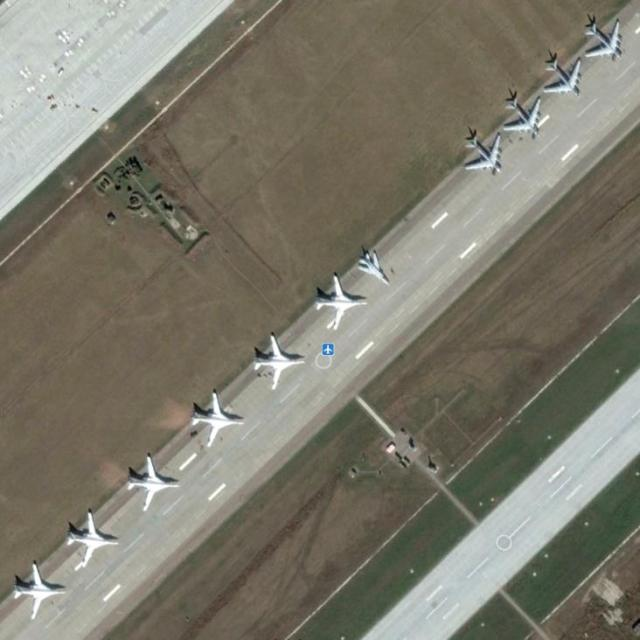fighter jet: (117, 448, 180, 512), (248, 334, 310, 392), (63, 516, 121, 568), (308, 270, 362, 323), (496, 82, 546, 138), (191, 394, 246, 444), (8, 567, 62, 616), (534, 46, 584, 97), (458, 126, 507, 173), (586, 19, 627, 66), (359, 243, 396, 290)
